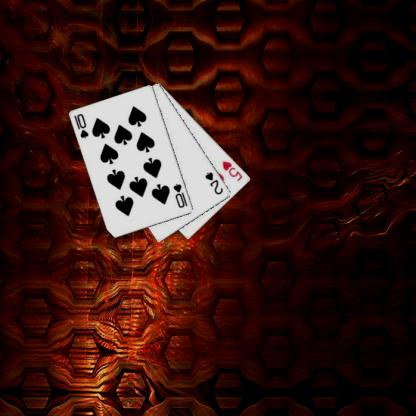10S: (171, 181, 189, 209), (72, 112, 90, 140)
2S: (202, 169, 224, 196)
5H: (220, 158, 244, 182)
